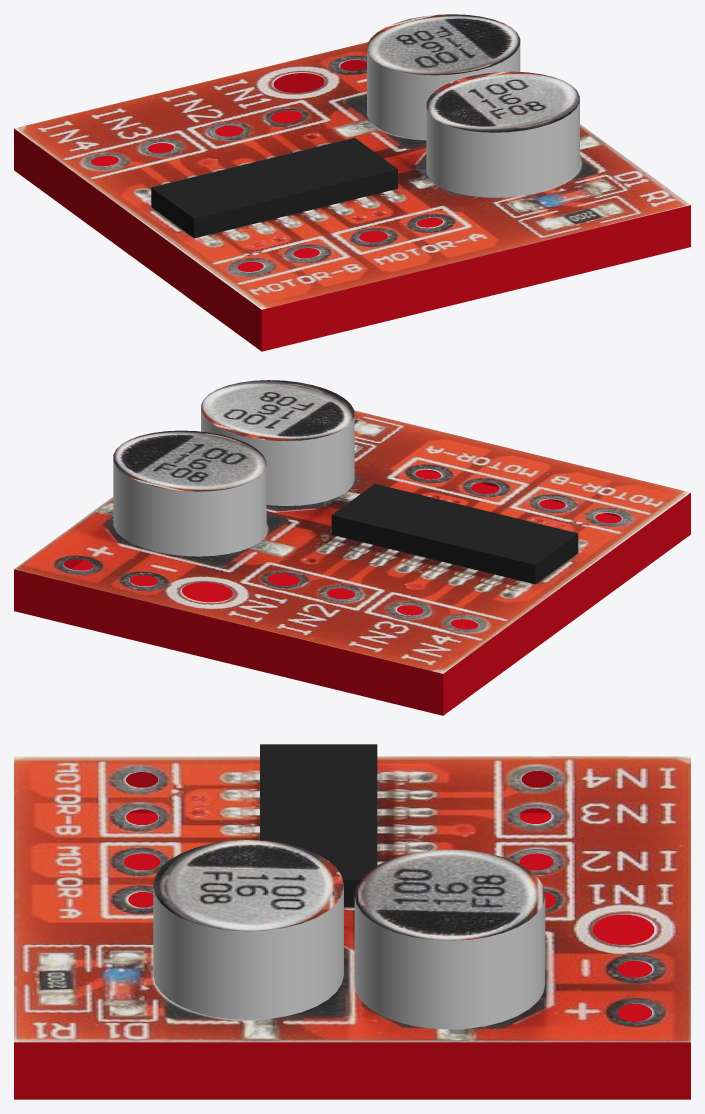
The model's file is driver.fbx.
The picture shows the model from 3 angles, top to bottom: view 1: azimuth 30°, elevation 25°; view 2: azimuth 150°, elevation 25°; view 3: azimuth 270°, elevation 25°; orthographic projection. The views are drawn at different scales.
Visible parts, largest first — view 1: driver; view 2: driver; view 3: driver.
Part boxes in pixels (box(x1,y1,x2,y2)): driver: box(14, 14, 690, 351); driver: box(14, 380, 690, 715); driver: box(14, 744, 690, 1099).
Bounding box in the file's own units: 19.21 × 4.57 × 19.21.
